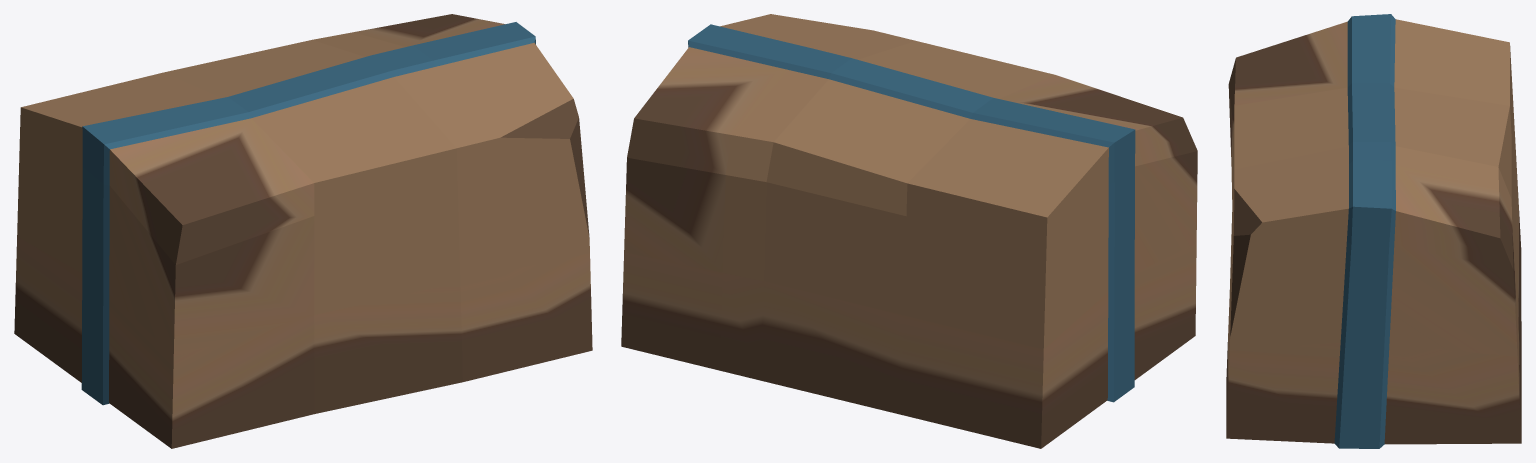
The model's file is SM_Cardboard_Box_С.fbx.
3 renders of one model, left to right at view 1: azimuth 30°, elevation 25°; view 2: azimuth 150°, elevation 25°; view 3: azimuth 270°, elevation 25°, orthographic. The views are drawn at different scales.
Parts seen in each view (by area): view 1: SM_Cardboard_Box_С; view 2: SM_Cardboard_Box_С; view 3: SM_Cardboard_Box_С.
Part boxes in pixels (<box>): SM_Cardboard_Box_С: <box>14,14,592,448</box>; SM_Cardboard_Box_С: <box>621,14,1197,448</box>; SM_Cardboard_Box_С: <box>1226,14,1521,448</box>.
Size of the model in its own units: 73.05 by 42.38 by 46.96.
